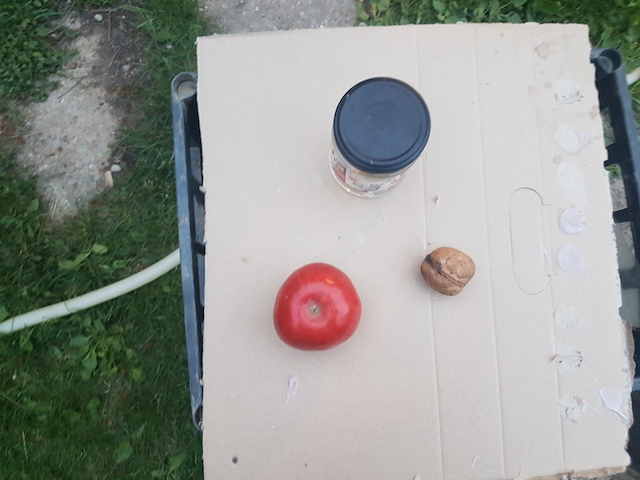apple: (273, 260, 363, 353)
nut: (416, 246, 478, 296)
recipient: (336, 75, 432, 173)
